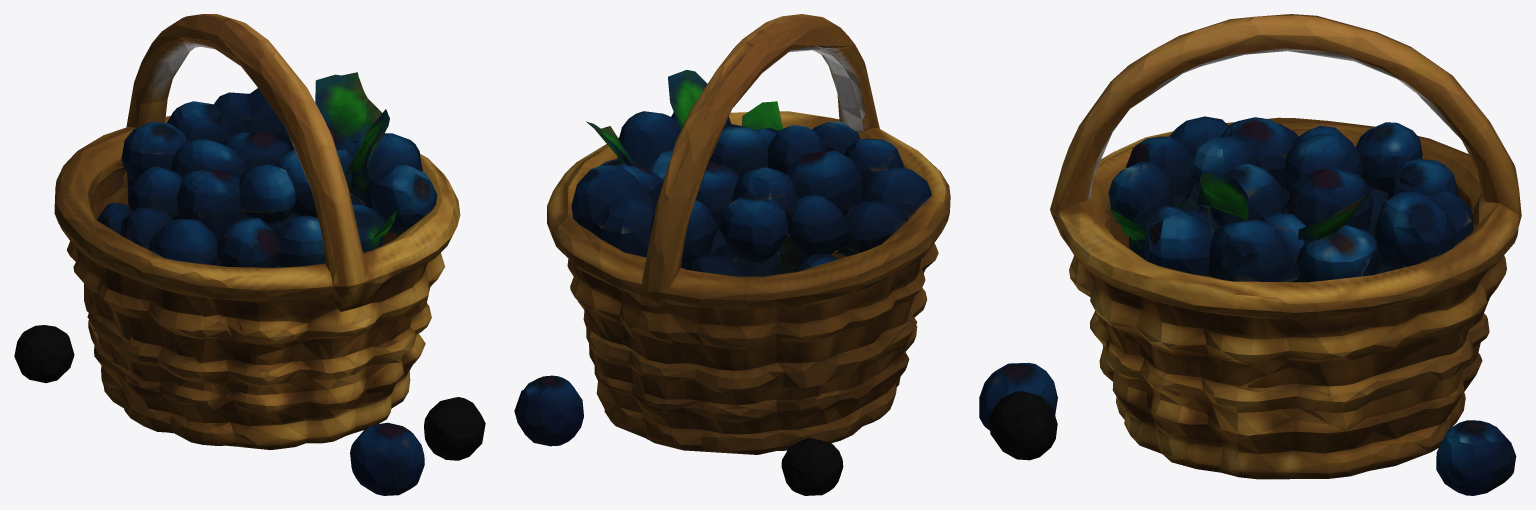
File: blueberries.glb
3 views of the same model, side by side, from view 1: azimuth 30°, elevation 25°; view 2: azimuth 150°, elevation 25°; view 3: azimuth 270°, elevation 25° (orthographic). The views are drawn at different scales.
Parts seen in each view (by area): view 1: world; view 2: world; view 3: world.
Part boxes in pixels (left/top/right/bottom): world: left=14, top=14, right=485, bottom=495; world: left=514, top=14, right=950, bottom=495; world: left=979, top=14, right=1521, bottom=495.
Size of the model in its own units: 0.7935 by 0.8348 by 0.9961.
Materials: 1 (1 with a texture image).
